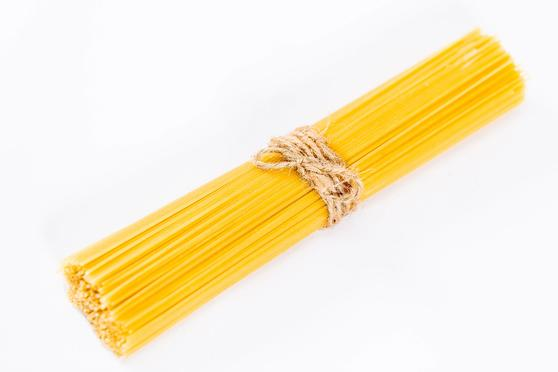spaghetti: (56, 22, 524, 353)
